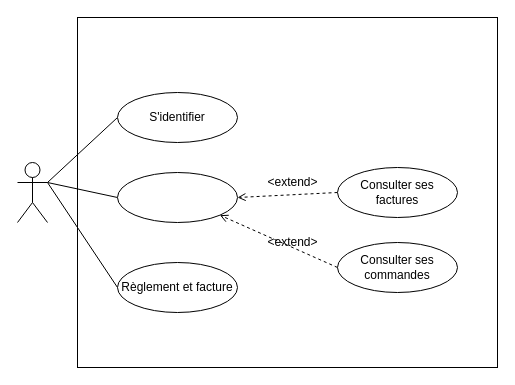
This 515x385 diagram has some shape labels left out. Here are the shapes that lost their labels. From the top down, the box of each, then its label:
(16, 162, 48, 222): client
(116, 172, 238, 222): Commander et réserver en ligne
